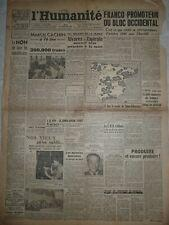paper: (5, 0, 166, 222)
